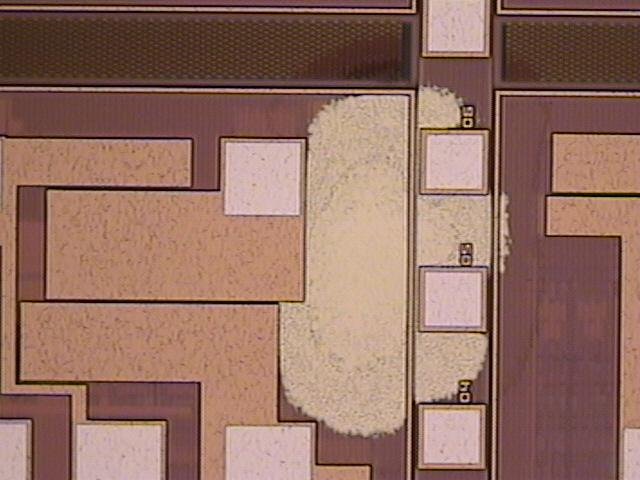BLOCK ETCH: (230, 30, 558, 478)
